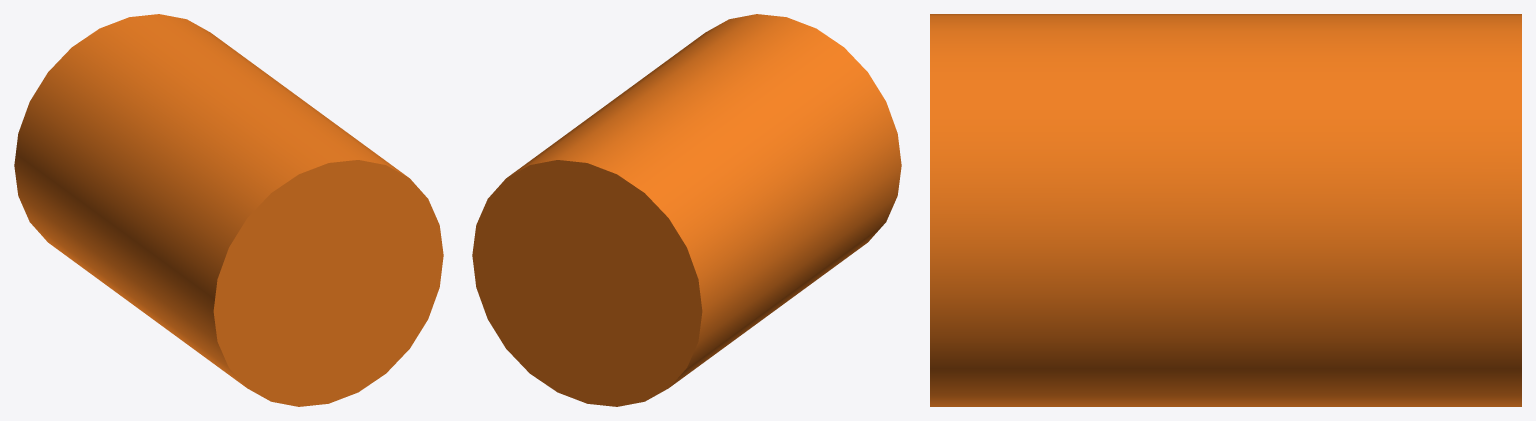
The picture shows the model from 3 angles, left to right: view 1: azimuth 30°, elevation 25°; view 2: azimuth 150°, elevation 25°; view 3: azimuth 270°, elevation 25°; orthographic projection. The views are drawn at different scales.
Visible parts, largest first — view 1: gripper_frame; view 2: gripper_frame; view 3: gripper_frame.
Part boxes in pixels (x1,y1,x2,y2): gripper_frame: (14,14,443,406); gripper_frame: (472,14,901,406); gripper_frame: (930,14,1521,406).
Size of the model in its own units: 0.008 by 0.008 by 0.012.
